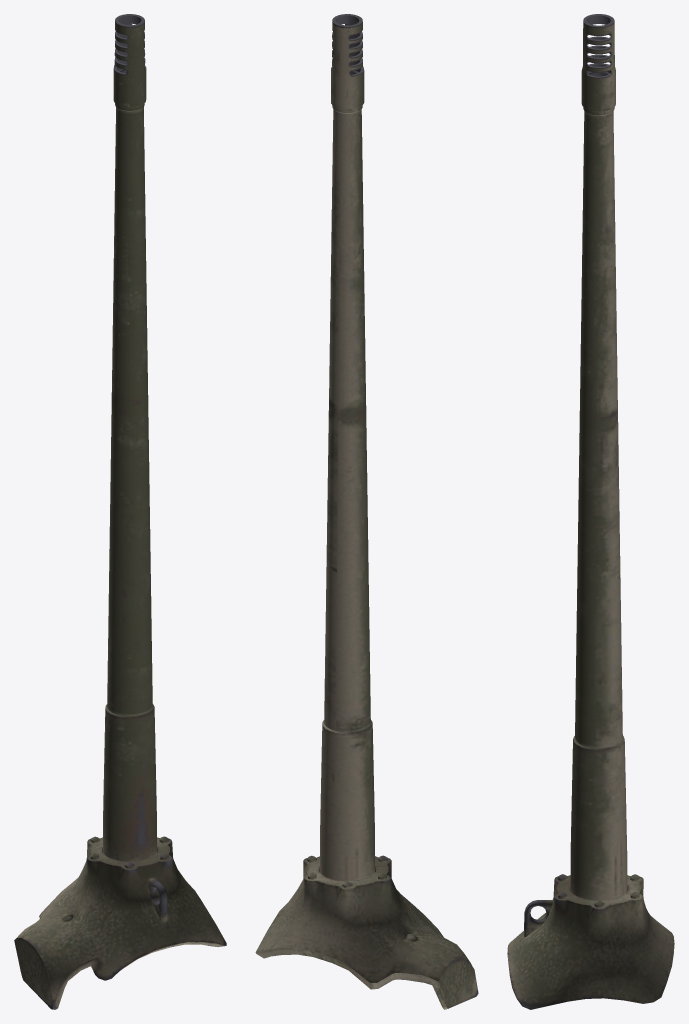
Rendered from Gun_02.glb.
The picture shows the model from 3 angles, left to right: view 1: azimuth 30°, elevation 25°; view 2: azimuth 150°, elevation 25°; view 3: azimuth 270°, elevation 25°; orthographic projection. The views are drawn at different scales.
Parts seen in each view (by area): view 1: set_0_group_0; view 2: set_0_group_0; view 3: set_0_group_0.
Boxes of the visible parts, x1,y1,x2,y2 form: set_0_group_0: (14, 14, 226, 1009); set_0_group_0: (255, 14, 478, 1009); set_0_group_0: (507, 14, 674, 1009).
Bounding box in the file's own units: 0.8755 × 4.68 × 0.7159.
Materials: 1 (1 with a texture image).
